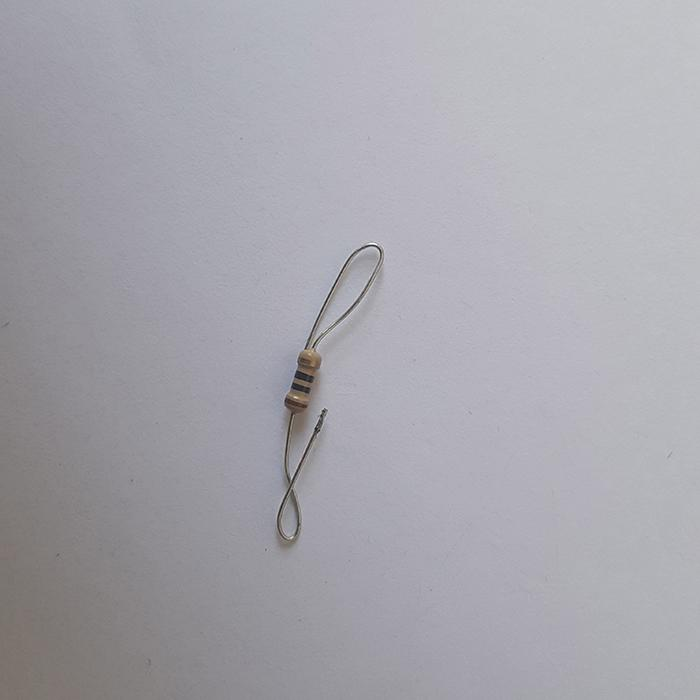resistor: (284, 348, 321, 412)
